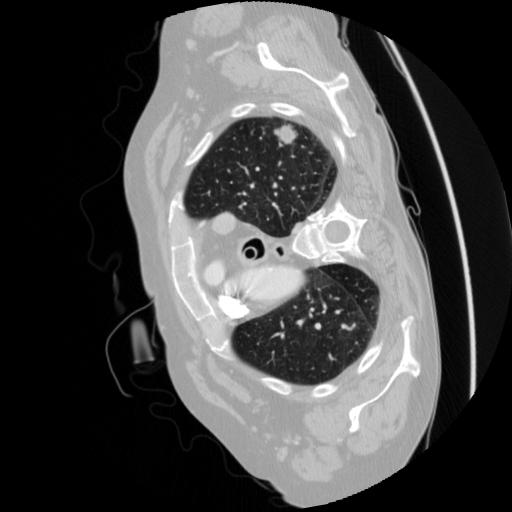nodule: (272, 118, 301, 147)
